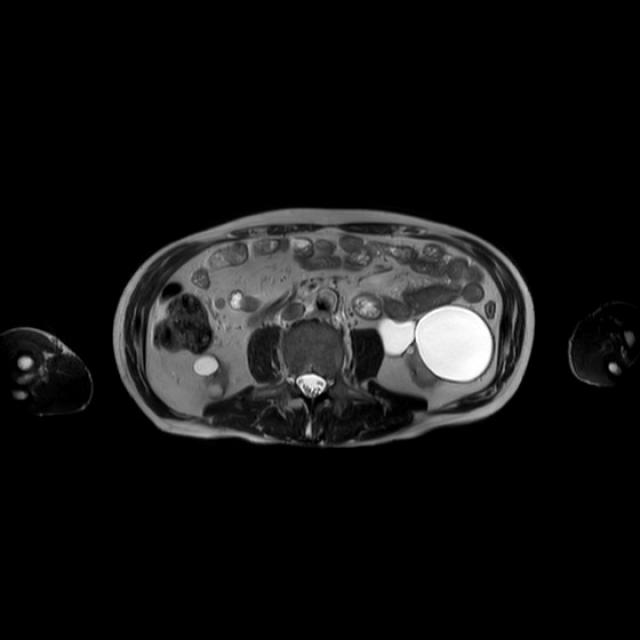sag: (195, 353, 232, 402)
sol: (380, 304, 496, 387)
